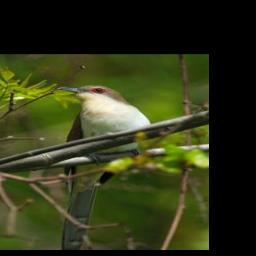Cuckoo: (53, 83, 155, 249)
